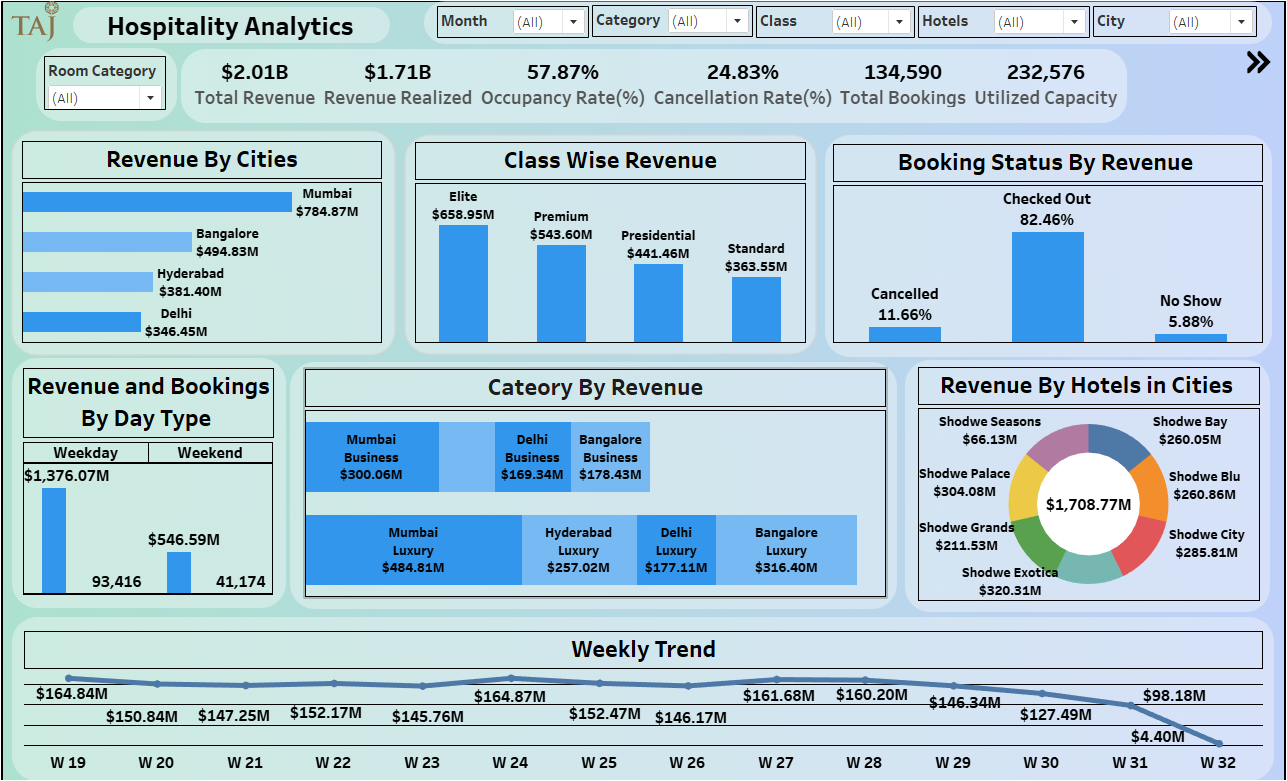

The page's visual inventory and layout, read from the dashboard file:
{"tool":"tableau","page":{"name":"Dashboard 1","canvas":[1660,800],"ordinal":0},"visuals":[{"type":"image","param":"Image/Green - Blue Background.png","box":[0,0,1285,791]},{"type":"worksheet","title":"Sheet 3","mark":"Automatic","box":[0,0,1286,791]},{"type":"image","param":"Image/Taj_Hotels_logo.svg","box":[11,1,54,42]},{"type":"filter","title":"Sheet 2","param":"[federated.0jhrag60bgtqcr1gfnqsa13xlo9b].[none:category:nk]","box":[592,6,161,32]},{"type":"filter","title":"Sheet 2","param":"[federated.0jhrag60bgtqcr1gfnqsa13xlo9b].[mn:mmm_yy:ok]","box":[437,7,152,32]},{"type":"filter","title":"Sheet 2","param":"[federated.0jhrag60bgtqcr1gfnqsa13xlo9b].[none:room_class:nk]","box":[756,7,159,32]},{"type":"filter","title":"Sheet 2","param":"[federated.0jhrag60bgtqcr1gfnqsa13xlo9b].[none:property_name:nk]","box":[918,7,172,32]},{"type":"filter","title":"Sheet 2","param":"[federated.0jhrag60bgtqcr1gfnqsa13xlo9b].[none:city:nk]","box":[1093,7,164,31]},{"type":"dashboard-object","box":[1239,46,39,33]},{"type":"worksheet","title":"KPI\"S Metrics","mark":"Automatic","box":[187,54,953,65]},{"type":"filter","title":"Sheet 2","param":"[federated.0jhrag60bgtqcr1gfnqsa13xlo9b].[none:room_category:nk]","box":[44,57,122,54]},{"type":"worksheet","title":"Sheet 2","mark":"Automatic","rows":["city"],"cols":["revenue_generated"],"box":[22,142,360,202]},{"type":"worksheet","title":"Sheet 4","mark":"Automatic","rows":["revenue_generated"],"cols":["room_class"],"box":[415,143,391,201]},{"type":"worksheet","title":"Sheet 5","mark":"Automatic","rows":["revenue_realized"],"cols":["booking_status"],"box":[833,145,430,199]},{"type":"worksheet","title":"Sheet 8","mark":"Pie","rows":["Calculation_680888027235426308","Calculation_680888027235426308"],"box":[918,368,342,234]},{"type":"worksheet","title":"Sheet 6","mark":"Automatic","cols":["day_type"],"box":[22,369,252,227]},{"type":"worksheet","title":"Sheet 10","mark":"Automatic","rows":["category"],"cols":["revenue_generated"],"box":[305,370,581,228]},{"type":"worksheet","title":"Sheet 7","mark":"Line","rows":["revenue_generated"],"cols":["week_no"],"box":[24,632,1239,143]}]}

Visuals, with their boxes on the page's 1660x800 design canvas (x1, y1, x2, y2). These are canvas units, not pixel positions in the 1287x781 screenshot, which may show the page scaled, cropped or inside an application window:
image: <region>0, 0, 1285, 791</region>
"Sheet 3" worksheet: <region>0, 0, 1286, 791</region>
image: <region>11, 1, 65, 43</region>
"Sheet 2" filter: <region>592, 6, 753, 38</region>
"Sheet 2" filter: <region>437, 7, 589, 39</region>
"Sheet 2" filter: <region>756, 7, 915, 39</region>
"Sheet 2" filter: <region>918, 7, 1090, 39</region>
"Sheet 2" filter: <region>1093, 7, 1257, 38</region>
dashboard-object: <region>1239, 46, 1278, 79</region>
"KPI"S Metrics" worksheet: <region>187, 54, 1140, 119</region>
"Sheet 2" filter: <region>44, 57, 166, 111</region>
"Sheet 2" worksheet: <region>22, 142, 382, 344</region>
"Sheet 4" worksheet: <region>415, 143, 806, 344</region>
"Sheet 5" worksheet: <region>833, 145, 1263, 344</region>
"Sheet 8" worksheet (Pie marks): <region>918, 368, 1260, 602</region>
"Sheet 6" worksheet: <region>22, 369, 274, 596</region>
"Sheet 10" worksheet: <region>305, 370, 886, 598</region>
"Sheet 7" worksheet (Line marks): <region>24, 632, 1263, 775</region>
